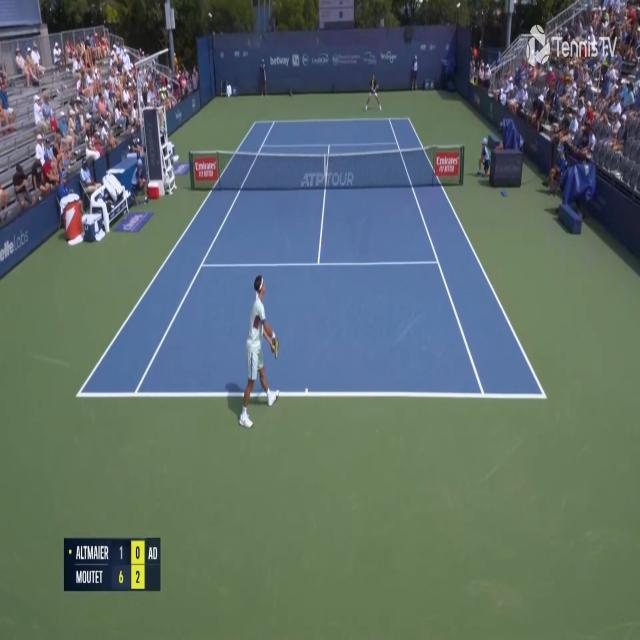tennis-player: (233, 273, 281, 432), (363, 74, 382, 112)
